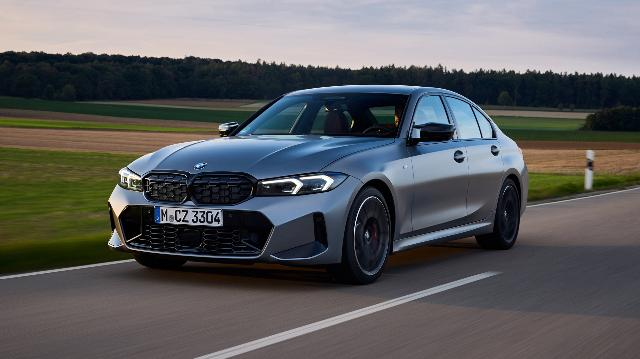bmw: (107, 84, 531, 286)
